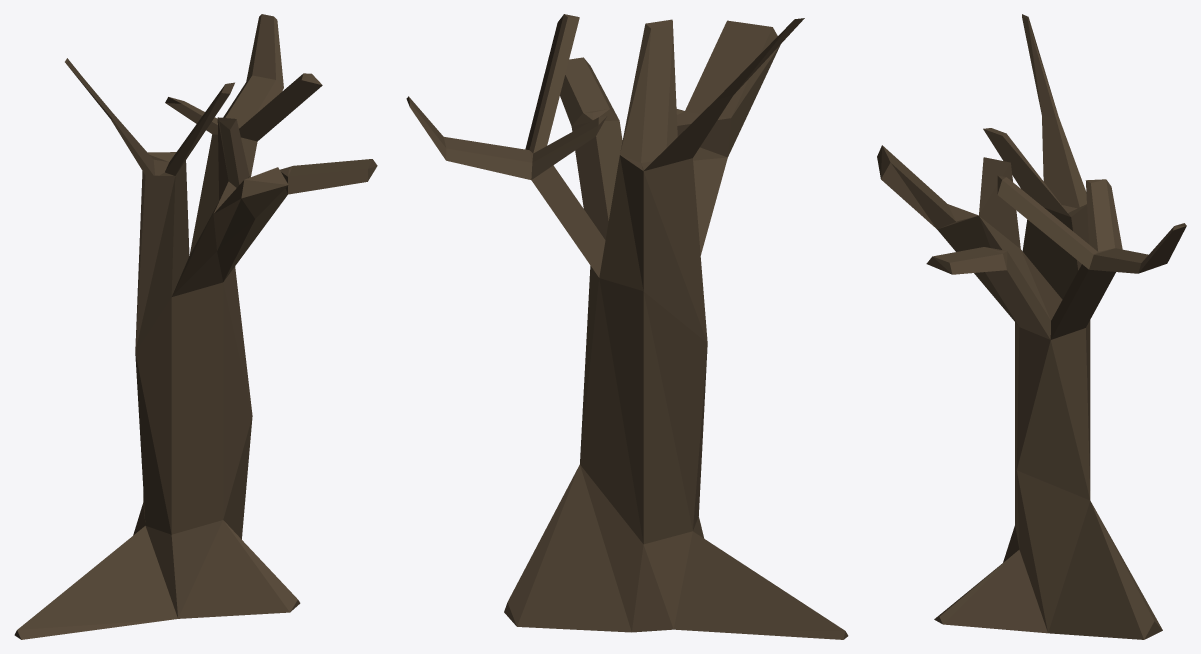
File: Tree5.fbx
3 renders of one model, left to right at view 1: azimuth 30°, elevation 25°; view 2: azimuth 150°, elevation 25°; view 3: azimuth 270°, elevation 25°, orthographic. The views are drawn at different scales.
Visible parts, largest first — view 1: Tree5; view 2: Tree5; view 3: Tree5.
Boxes of the visible parts, x1,y1,x2,y2 form: Tree5: (14,14,377,639); Tree5: (406,14,848,639); Tree5: (877,14,1186,639).
Size of the model in its own units: 172 by 279 by 147.
